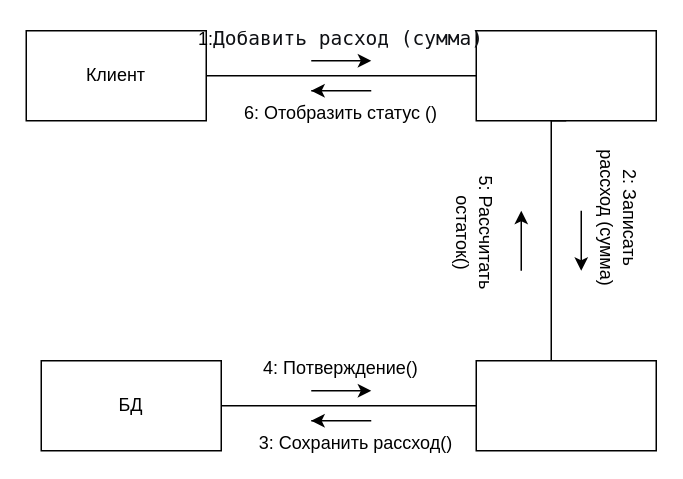
Some shapes in this 683 by 479 pixel diagram are drawn without their labels. The shapes that lost their labels are listed below. From the top down, each one's centre as x and y in pixels, then its label:
At (565,75): "Интерфейс".
At (565,405): "Сервер".
